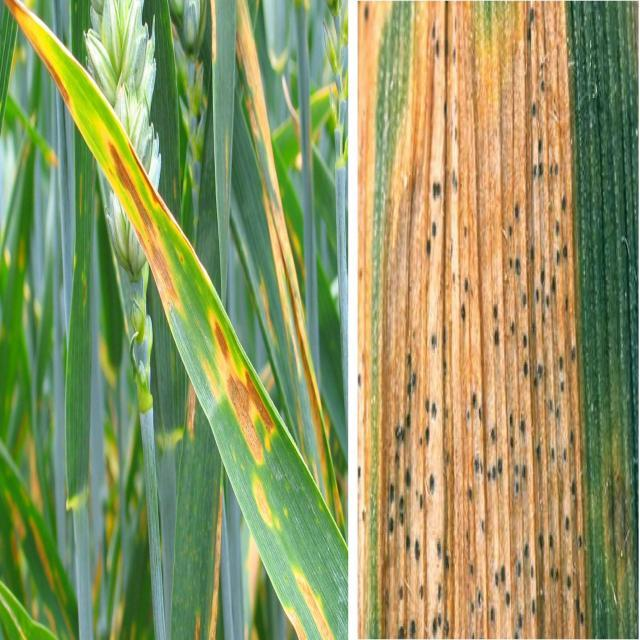wheat-septoria: (2, 0, 351, 640), (344, 0, 592, 640)
